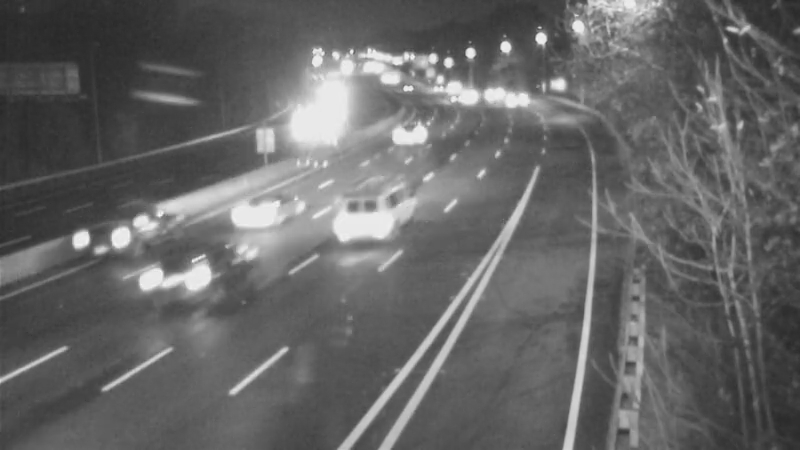vehicle: (325, 179, 405, 259), (215, 176, 295, 256), (132, 231, 212, 311), (70, 196, 150, 276), (467, 65, 517, 115), (481, 73, 531, 123), (377, 107, 427, 157), (282, 102, 332, 152)
